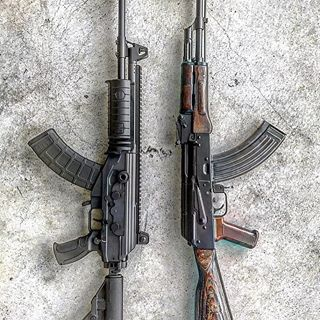ak47: (34, 2, 147, 320), (174, 2, 286, 320)
